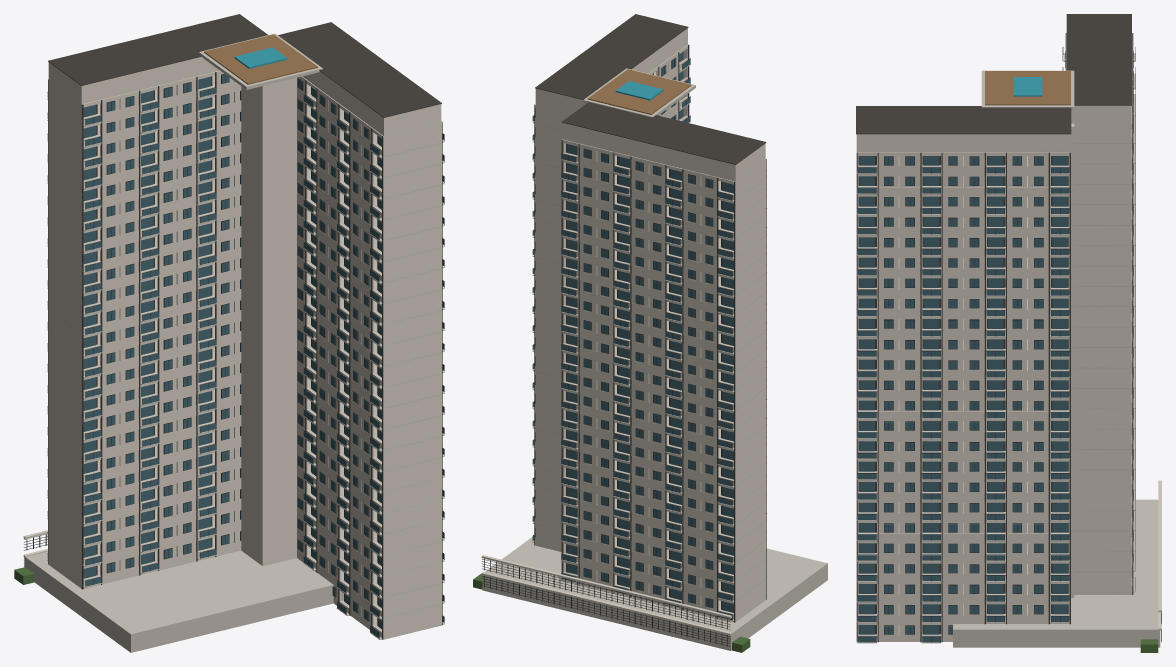
The model's file is mirante-7.glb.
3 renders of one model, left to right at view 1: azimuth 30°, elevation 25°; view 2: azimuth 150°, elevation 25°; view 3: azimuth 270°, elevation 25°, orthographic. The views are drawn at different scales.
Visible parts, largest first — view 1: GEO-embasamento-reboco, GEO-embasamento-concreto, GEO-coroamento-grafite, GEO-coroamento-grafite.001, GEO-coroamento-reboco, GEO-T01-paredes-15-reboco, GEO-T01-paredes-16-reboco, GEO-T01-paredes-22-reboco, GEO-T01-paredes-20-reboco, GEO-T01-paredes-21-reboco, GEO-T01-paredes-18-reboco, GEO-T01-paredes-17-reboco (+66 smaller); view 2: GEO-embasamento-concreto, GEO-coroamento-grafite, GEO-coroamento-grafite.001, GEO-coroamento-reboco, GEO-embasamento-metal, GEO-T01-paredes-23-reboco, GEO-T01-paredes-09-reboco, GEO-T01-paredes-11-reboco, GEO-T01-paredes-13-reboco, GEO-T01-paredes-07-reboco, GEO-T01-paredes-14-reboco, GEO-T01-paredes-16-reboco (+66 smaller); view 3: GEO-coroamento-grafite.001, GEO-embasamento-concreto, GEO-coroamento-grafite, GEO-coroamento-reboco.001, GEO-T02-paredes-23-reboco, GEO-T02-paredes-20-reboco, GEO-T02-paredes-04-reboco, GEO-T02-paredes-09-reboco, GEO-T02-paredes-06-reboco, GEO-T02-paredes-11-reboco, GEO-T02-paredes-16-reboco, GEO-T02-paredes-01-reboco (+73 smaller).
Boxes of the visible parts, left/top/right/bottom form: GEO-embasamento-reboco: left=23, top=78, right=296, bottom=566; GEO-embasamento-concreto: left=24, top=33, right=343, bottom=652; GEO-coroamento-grafite: left=48, top=14, right=267, bottom=589; GEO-coroamento-grafite.001: left=278, top=22, right=442, bottom=639; GEO-coroamento-reboco: left=48, top=56, right=219, bottom=104; GEO-T01-paredes-15-reboco: left=48, top=234, right=241, bottom=292; GEO-T01-paredes-16-reboco: left=48, top=213, right=241, bottom=271; GEO-T01-paredes-22-reboco: left=48, top=87, right=241, bottom=145; GEO-T01-paredes-20-reboco: left=48, top=129, right=241, bottom=187; GEO-T01-paredes-21-reboco: left=48, top=108, right=241, bottom=166; GEO-T01-paredes-18-reboco: left=48, top=171, right=241, bottom=229; GEO-T01-paredes-17-reboco: left=48, top=192, right=241, bottom=250; GEO-embasamento-concreto: left=482, top=68, right=827, bottom=650; GEO-coroamento-grafite: left=561, top=102, right=766, bottom=622; GEO-coroamento-grafite.001: left=534, top=14, right=689, bottom=545; GEO-coroamento-reboco: left=562, top=122, right=765, bottom=181; GEO-embasamento-metal: left=482, top=559, right=730, bottom=646; GEO-T01-paredes-23-reboco: left=562, top=139, right=765, bottom=200; GEO-T01-paredes-09-reboco: left=562, top=408, right=765, bottom=467; GEO-T01-paredes-11-reboco: left=562, top=370, right=765, bottom=429; GEO-T01-paredes-13-reboco: left=562, top=332, right=765, bottom=391; GEO-T01-paredes-07-reboco: left=562, top=446, right=765, bottom=505; GEO-T01-paredes-14-reboco: left=562, top=313, right=765, bottom=372; GEO-T01-paredes-16-reboco: left=562, top=275, right=765, bottom=333; GEO-coroamento-grafite.001: left=856, top=106, right=1071, bottom=642; GEO-embasamento-concreto: left=953, top=70, right=1160, bottom=647; GEO-coroamento-grafite: left=1065, top=14, right=1133, bottom=594; GEO-coroamento-reboco.001: left=856, top=134, right=1070, bottom=152; GEO-T02-paredes-23-reboco: left=857, top=152, right=1070, bottom=172; GEO-T02-paredes-20-reboco: left=857, top=213, right=1069, bottom=234; GEO-T02-paredes-04-reboco: left=857, top=540, right=1069, bottom=560; GEO-T02-paredes-09-reboco: left=857, top=438, right=1069, bottom=458; GEO-T02-paredes-06-reboco: left=857, top=499, right=1069, bottom=519; GEO-T02-paredes-11-reboco: left=857, top=397, right=1069, bottom=417; GEO-T02-paredes-16-reboco: left=857, top=295, right=1069, bottom=315; GEO-T02-paredes-01-reboco: left=857, top=601, right=1069, bottom=621.
Bounding box in the file's own units: 46.5 × 79.05 × 42.82.
